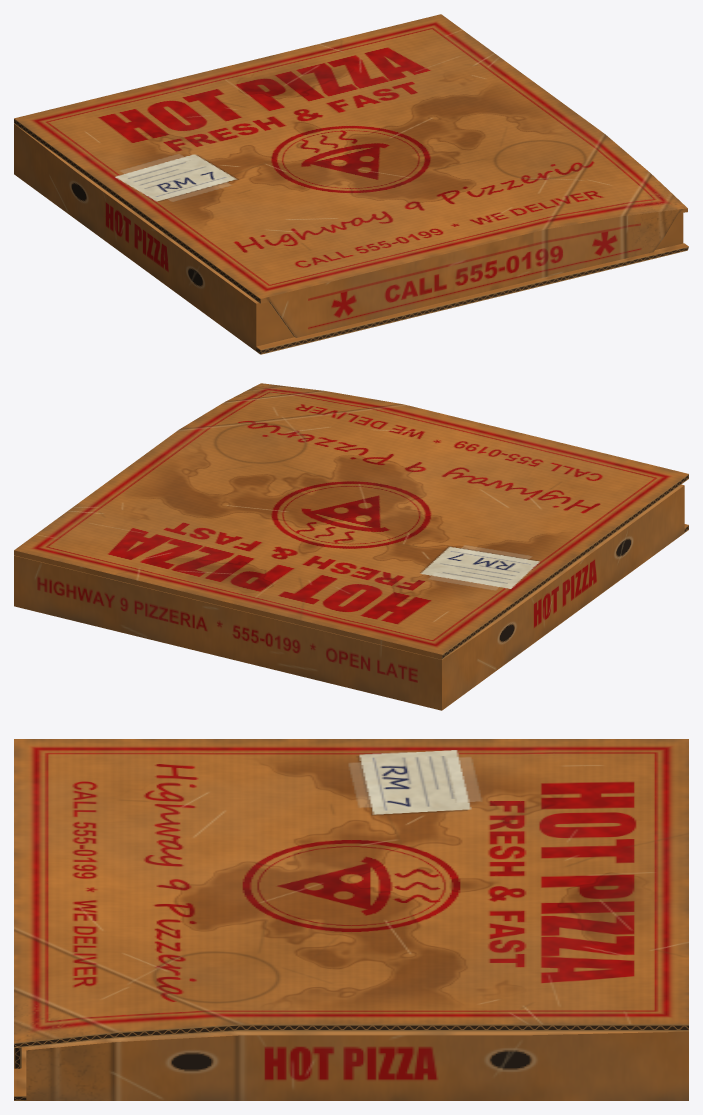
File: SM_Motel_PizzaBox.glb
The picture shows the model from 3 angles, top to bottom: view 1: azimuth 30°, elevation 25°; view 2: azimuth 150°, elevation 25°; view 3: azimuth 270°, elevation 25°; orthographic projection. The views are drawn at different scales.
Parts seen in each view (by area): view 1: SM_Motel_PizzaBox_Lid, SM_Motel_PizzaBox; view 2: SM_Motel_PizzaBox_Lid, SM_Motel_PizzaBox; view 3: SM_Motel_PizzaBox_Lid, SM_Motel_PizzaBox.
Part boxes in pixels (x1,y1,x2,y2): SM_Motel_PizzaBox_Lid: (14,14,687,337); SM_Motel_PizzaBox: (14,123,688,354); SM_Motel_PizzaBox_Lid: (14,383,688,659); SM_Motel_PizzaBox: (14,484,688,710); SM_Motel_PizzaBox_Lid: (14,739,688,1068); SM_Motel_PizzaBox: (14,1031,688,1100).
Size of what is drawn, in the model's own units: 0.3609 by 0.045 by 0.36.
Materials: 3 (3 with a texture image).
